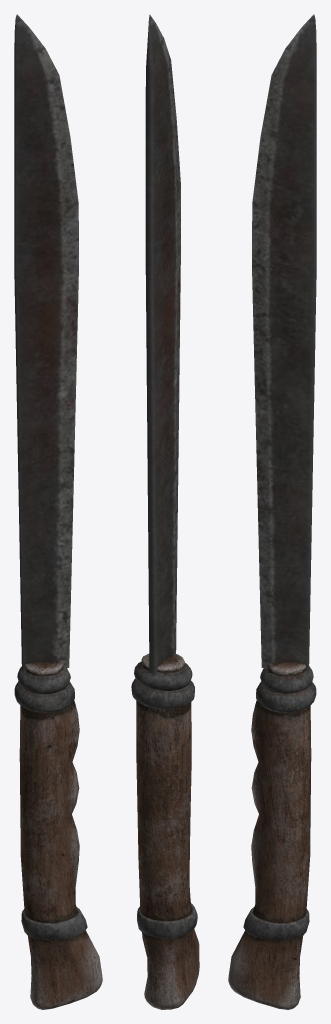
The model's file is hmachete.glb.
3 renders of one model, left to right at view 1: azimuth 90°, elevation 25°; view 2: azimuth 150°, elevation 25°; view 3: azimuth 270°, elevation 25°, orthographic.
Visible parts, largest first — view 1: hmachete; view 2: hmachete; view 3: hmachete.
Part boxes in pixels (<box>): hmachete: <box>14,14,102,1009</box>; hmachete: <box>131,14,199,1009</box>; hmachete: <box>228,14,316,1009</box>.
Size of the model in its own units: 0.0444 by 0.7548 by 0.0611.
1 material, 1 textured.
